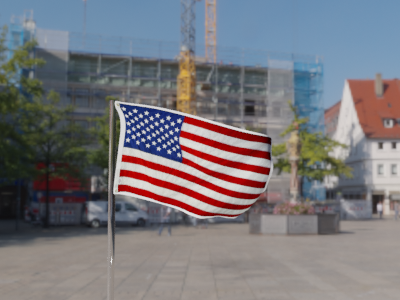America flag: (114, 100, 273, 222)
